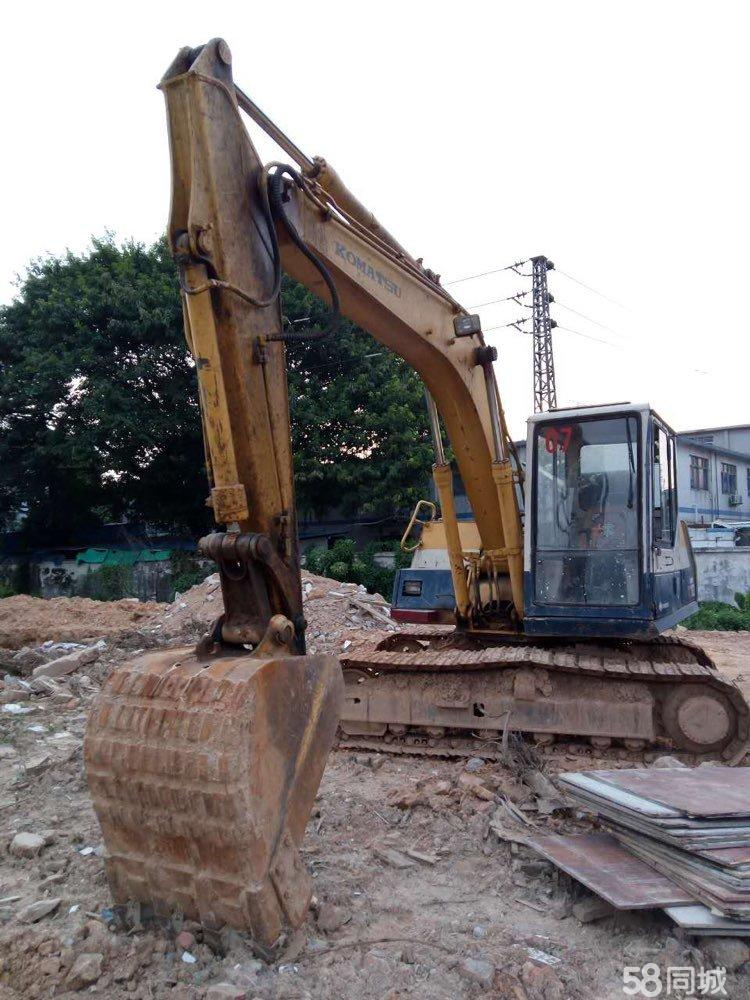excavator: (68, 15, 750, 961)
